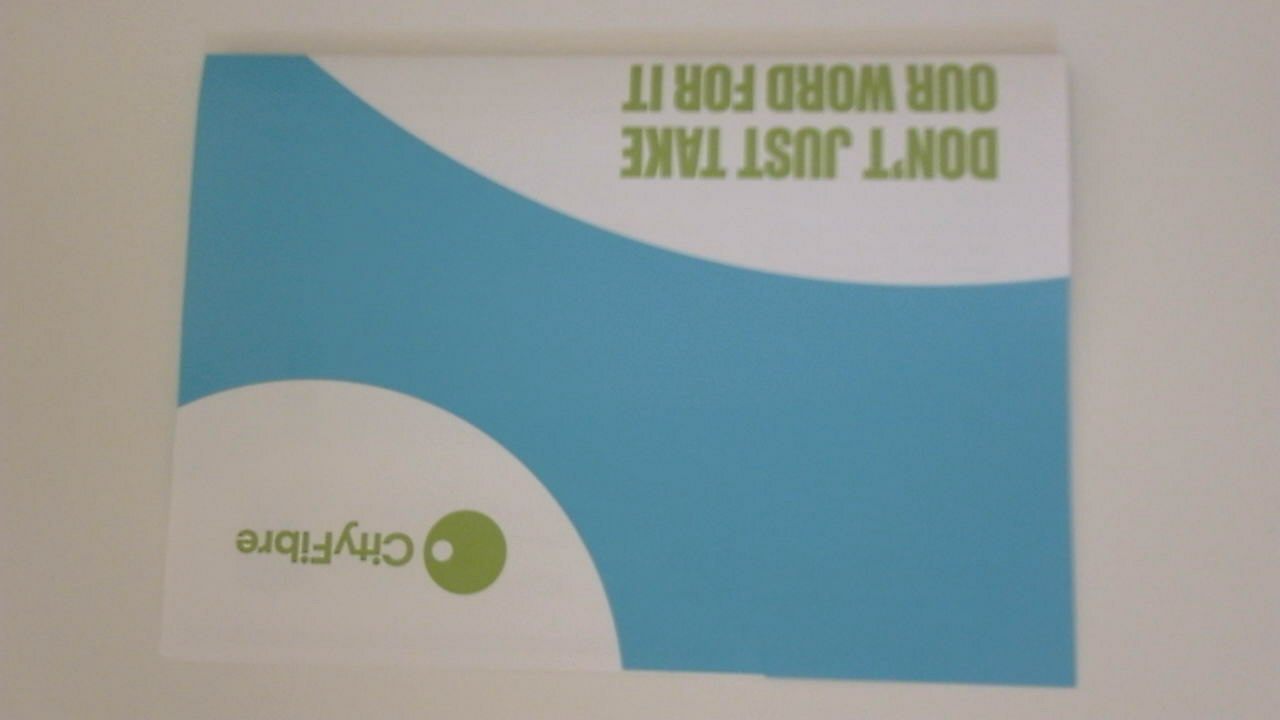Mixed Paper: (162, 56, 1089, 705)
